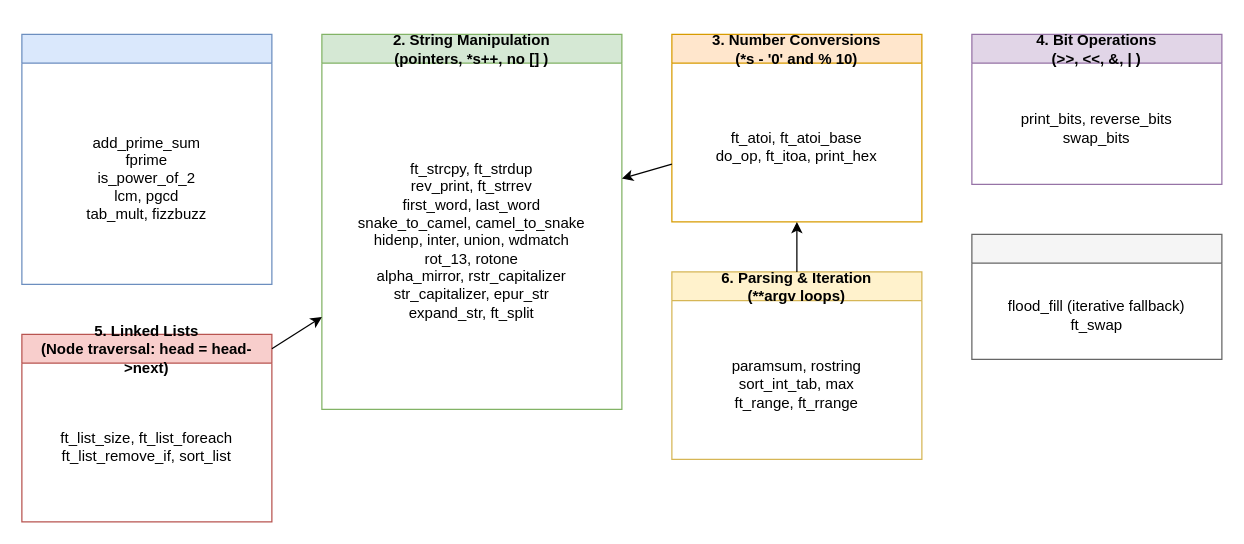
Image size: 1244x544. Some labels were removed from this diagram. The shapes that lost their labels are listed below. From the top down, each one's box as (x1, y1, x2, y2) in pixels, then its label:
(21, 33, 272, 284): 1. Math Problems & Number Theory (while loops, primes, modulo)
(971, 233, 1222, 359): 7. Matrices & Graphics (flood_fill)
